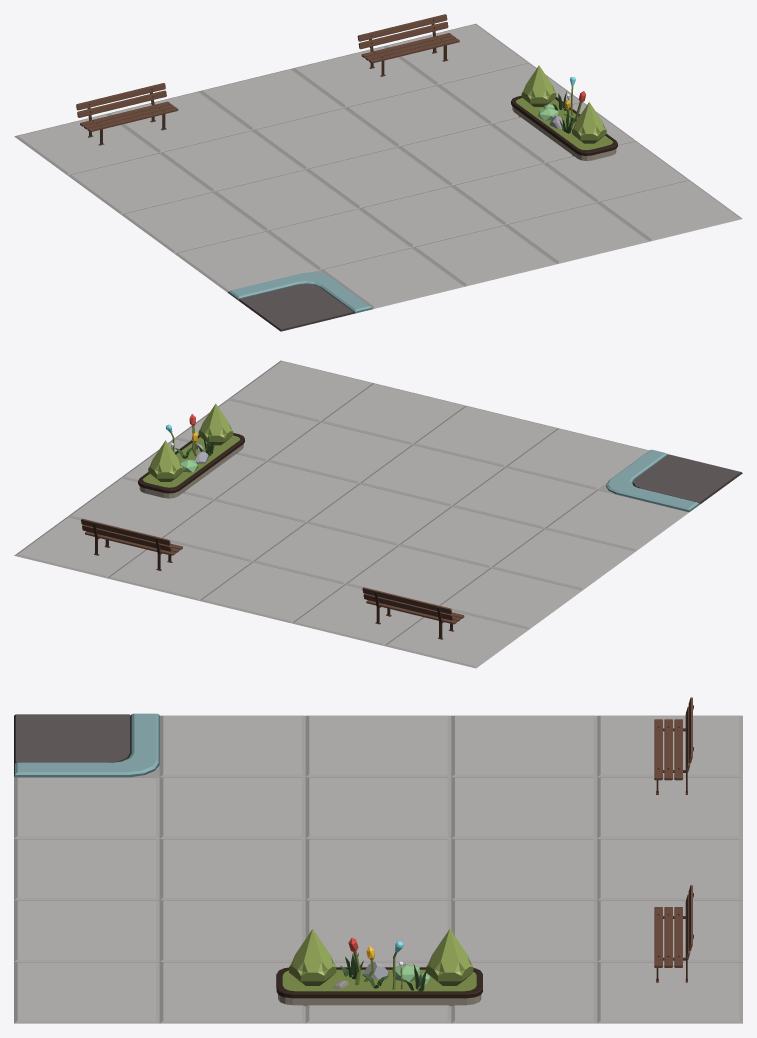
The model's file is OpenFork_A.glb.
3 renders of one model, top to bottom at view 1: azimuth 30°, elevation 25°; view 2: azimuth 150°, elevation 25°; view 3: azimuth 270°, elevation 25°, orthographic. The views are drawn at different scales.
Parts seen in each view (by area): view 1: OpenFork_A, Bench_01.009, Bench_01.004, Cube.234, Cone.012, Cone.011; view 2: OpenFork_A, Cube.234, Bench_01.004, Bench_01.009, Cone.011, Cone.012; view 3: OpenFork_A, Cube.234, Bench_01.004, Bench_01.009, Cone.011, Cone.012.
Boxes of the visible parts, <box> form: OpenFork_A: <box>14,23,742,331</box>; Bench_01.009: <box>357,14,459,76</box>; Bench_01.004: <box>76,83,178,145</box>; Cube.234: <box>511,95,617,160</box>; Cone.012: <box>572,102,606,143</box>; Cone.011: <box>521,65,556,106</box>; OpenFork_A: <box>14,360,742,668</box>; Cube.234: <box>138,433,244,498</box>; Bench_01.004: <box>362,587,464,639</box>; Bench_01.009: <box>81,518,182,570</box>; Cone.011: <box>148,440,182,481</box>; Cone.012: <box>198,403,233,445</box>; OpenFork_A: <box>14,713,742,1023</box>; Cube.234: <box>276,967,482,1006</box>; Bench_01.004: <box>654,697,693,794</box>; Bench_01.009: <box>654,885,693,982</box>; Cone.011: <box>426,929,473,985</box>; Cone.012: <box>289,929,336,985</box>.
Size of what is drawn, in the model's own units: 16 by 1.59 by 16.
2 materials, 2 textured.
